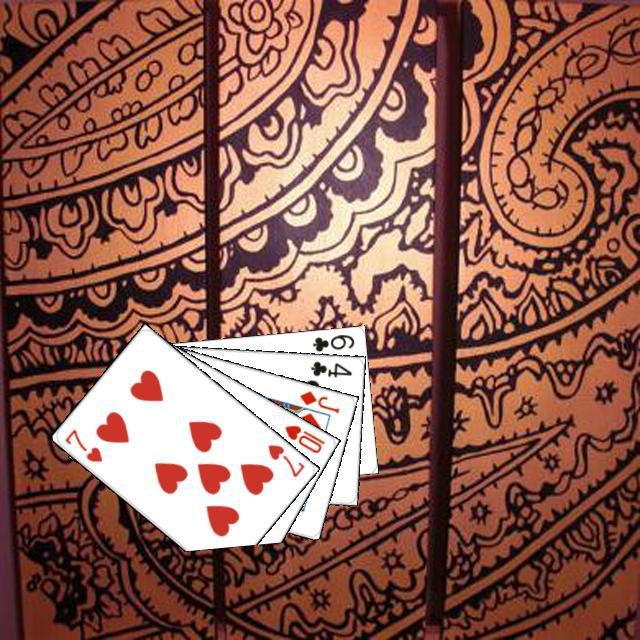10h: (280, 420, 327, 455)
4c: (306, 356, 353, 379)
6c: (308, 329, 356, 353)
7h: (59, 424, 104, 464), (263, 439, 307, 479)
Jd: (295, 386, 341, 415)
